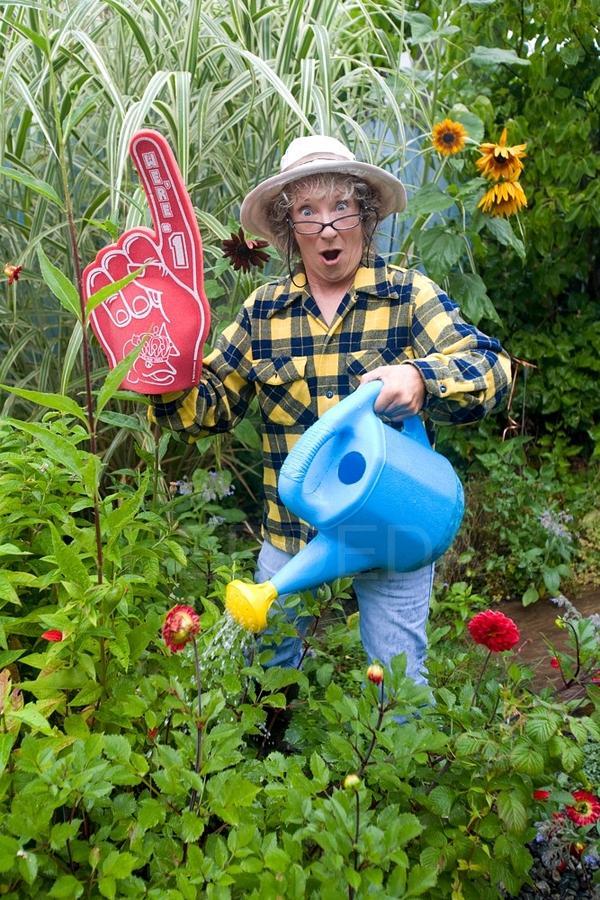person: (97, 118, 517, 715)
